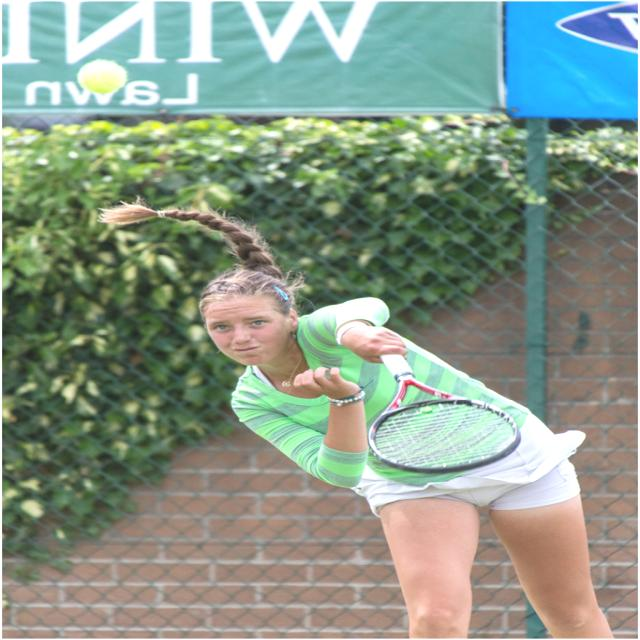Tennis Ball: (80, 58, 128, 94)
